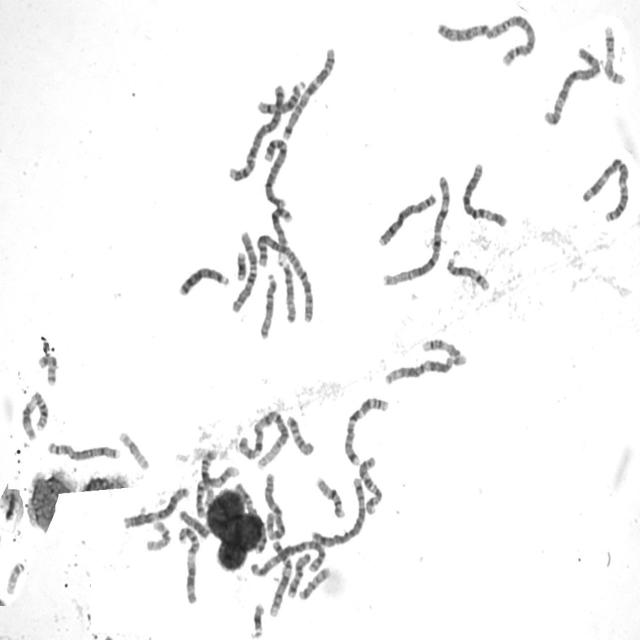A1: (379, 171, 453, 289), (235, 406, 291, 469)
A2: (434, 10, 539, 68), (254, 230, 316, 325)
A3: (579, 152, 632, 224), (248, 540, 326, 578)
B4: (225, 79, 288, 184), (261, 134, 289, 209)
B5: (543, 46, 602, 127), (308, 474, 368, 548)
C10: (229, 227, 259, 315), (357, 453, 384, 516)
C11: (175, 521, 201, 606), (18, 388, 50, 442)
C12: (120, 483, 190, 531), (381, 353, 457, 386)
C6: (459, 158, 508, 228), (262, 471, 287, 541)
C7: (280, 44, 338, 142), (342, 393, 391, 467)
C8: (376, 190, 438, 249), (45, 438, 122, 462)
C9: (193, 462, 241, 519), (268, 538, 293, 619)
D13: (176, 263, 231, 298), (269, 203, 294, 266)
D14: (255, 76, 307, 117), (444, 253, 492, 293)
D15: (257, 270, 279, 340), (278, 253, 298, 325)
E16: (313, 473, 347, 521), (199, 448, 219, 509)
E17: (601, 22, 627, 86), (420, 334, 468, 368)
E18: (284, 412, 316, 458), (285, 553, 310, 598)
F19: (115, 427, 151, 471), (144, 517, 172, 553)
F20: (297, 564, 332, 602), (35, 351, 59, 388)
G21: (250, 600, 266, 640), (236, 252, 248, 282)
G22: (3, 558, 26, 596), (4, 492, 18, 524)
X: (235, 482, 268, 556)
Y: (179, 509, 209, 539)
